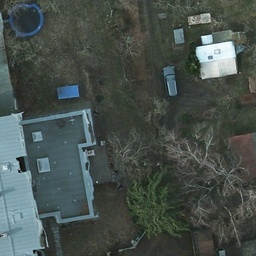car: (159, 66, 182, 98)
